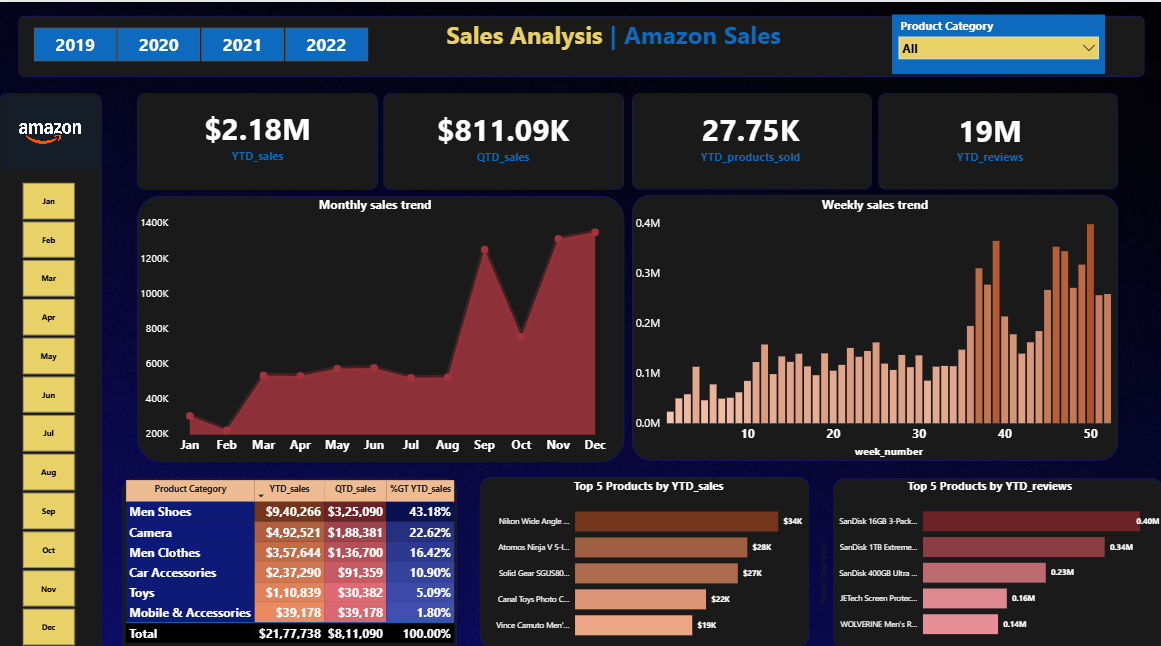

The dashboard page shown, as its layout file describes it:
{"tool":"powerbi","page":{"name":"Dashboard","canvas":[1800,1000],"ordinal":0},"visuals":[{"type":"shape","box":[32.8,20.5,1738.8,94.4],"z":0},{"type":"shape","box":[2.1,141.7,160.1,866.3],"z":1000},{"type":"textbox","box":[551.2,19.5,799.7,95.1],"z":2000},{"type":"shape","box":[216.1,140.5,371.8,149.1],"z":3000},{"type":"shape","box":[596.5,140.5,371.8,149.1],"z":4000},{"type":"card","fields":{"Values":["#Measures.YTD_sales"]},"box":[258.6,138.9,287.5,133.1],"z":5000},{"type":"shape","box":[980.3,140.9,370.5,148.6],"z":6000},{"type":"card","fields":{"Values":["#Measures.QTD_sales"]},"box":[632.9,158.2,297.2,96.5],"z":7000},{"type":"shape","box":[1360.4,140.9,370.5,148.6],"z":8000},{"type":"card","fields":{"Values":["#Measures.YTD_products_sold"]},"box":[999.6,150.5,328,111.9],"z":9000},{"type":"card","fields":{"Values":["#Measures.YTD_reviews"]},"box":[1083.9,295.6,227.9,88.3],"z":10000},{"type":"image","box":[1.9,140.9,160.2,121.6],"z":11000},{"type":"shape","box":[216.1,299.1,752.6,411],"z":12000},{"type":"areaChart","title":"Monthly sales trend","fields":{"Category":["dim_date.month_name"],"Y":["#Measures.Total sales"]},"box":[216.1,299.1,735.2,407.2],"z":13000},{"type":"shape","box":[980.3,297.2,750.6,411],"z":14000},{"type":"columnChart","title":"Weekly sales trend ","fields":{"Category":["dim_date.week_number"],"Y":["#Measures.Total sales"]},"box":[980.3,299.1,750.6,409.1],"z":15000},{"type":"shape","box":[193,734.9,517.3,283.3],"z":16000},{"type":"tableEx","fields":{"Values":["Amazon_Data.Product Category","#Measures.YTD_sales","#Measures.QTD_sales","Divide(#Measures.YTD_sales, ScopedEval(#Measures.YTD_sales, []))"]},"box":[193,732.9,529.7,266.9],"z":17000},{"type":"shape","box":[745.2,732.9,509.1,262.8],"z":18000},{"type":"shape","box":[1291.3,734.9,509.1,264.8],"z":19000},{"type":"clusteredBarChart","title":"Top 5 Products by YTD_sales","fields":{"Category":["Amazon_Data.Product Description"],"Y":["#Measures.YTD_sales"]},"box":[753.4,734.9,507.1,264.8],"z":20000},{"type":"clusteredBarChart","title":"Top 5 Products by YTD_reviews","fields":{"Category":["Amazon_Data.Product Description"],"Y":["#Measures.YTD_reviews"]},"box":[1266.7,734.9,533.8,262.8],"z":21000},{"type":"slicer","fields":{"Values":["dim_date.Date.Variation.Date Hierarchy.Year"]},"box":[30.9,32.8,565.4,65.6],"z":22000},{"type":"slicer","fields":{"Values":["Amazon_Data.Product Category"]},"box":[1380.9,20.1,329.2,92.3],"z":23000},{"type":"card","fields":{"Values":["#Measures.YTD_reviews"]},"box":[1366.2,137,333.8,140.9],"z":24000},{"type":"slicer","fields":{"Values":["dim_date.month_name"]},"box":[13,272.3,130,728],"z":25000}]}

Visuals, with their boxes in screenshot pixels (x1, y1, x2, y2), scaled from the page's 1800x1000 canvas onto the 1161x646 screenshot:
shape: {"x1": 21, "y1": 13, "x2": 1143, "y2": 74}
shape: {"x1": 1, "y1": 92, "x2": 105, "y2": 645}
textbox: {"x1": 356, "y1": 13, "x2": 871, "y2": 74}
shape: {"x1": 139, "y1": 91, "x2": 379, "y2": 187}
shape: {"x1": 385, "y1": 91, "x2": 625, "y2": 187}
card - #Measures.YTD_sales: {"x1": 167, "y1": 90, "x2": 352, "y2": 176}
shape: {"x1": 632, "y1": 91, "x2": 871, "y2": 187}
card - #Measures.QTD_sales: {"x1": 408, "y1": 102, "x2": 600, "y2": 165}
shape: {"x1": 877, "y1": 91, "x2": 1116, "y2": 187}
card - #Measures.YTD_products_sold: {"x1": 645, "y1": 97, "x2": 856, "y2": 170}
card - #Measures.YTD_reviews: {"x1": 699, "y1": 191, "x2": 846, "y2": 248}
image: {"x1": 1, "y1": 91, "x2": 105, "y2": 170}
shape: {"x1": 139, "y1": 193, "x2": 625, "y2": 459}
"Monthly sales trend" areaChart: {"x1": 139, "y1": 193, "x2": 614, "y2": 456}
shape: {"x1": 632, "y1": 192, "x2": 1116, "y2": 457}
"Weekly sales trend " columnChart: {"x1": 632, "y1": 193, "x2": 1116, "y2": 457}
shape: {"x1": 124, "y1": 475, "x2": 458, "y2": 645}
tableEx - Amazon_Data.Product Category x #Measures.YTD_sales: {"x1": 124, "y1": 473, "x2": 466, "y2": 645}
shape: {"x1": 481, "y1": 473, "x2": 809, "y2": 643}
shape: {"x1": 833, "y1": 475, "x2": 1160, "y2": 645}
"Top 5 Products by YTD_sales" clusteredBarChart: {"x1": 486, "y1": 475, "x2": 813, "y2": 645}
"Top 5 Products by YTD_reviews" clusteredBarChart: {"x1": 817, "y1": 475, "x2": 1160, "y2": 645}
slicer - dim_date.Date.Variation.Date Hierarchy.Year: {"x1": 20, "y1": 21, "x2": 385, "y2": 64}
slicer - Amazon_Data.Product Category: {"x1": 891, "y1": 13, "x2": 1103, "y2": 73}
card - #Measures.YTD_reviews: {"x1": 881, "y1": 89, "x2": 1096, "y2": 180}
slicer - dim_date.month_name: {"x1": 8, "y1": 176, "x2": 92, "y2": 645}
